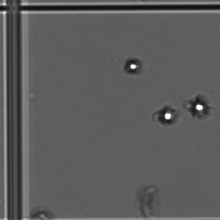Dead Cell: (136, 179, 168, 212)
Living Cell: (189, 91, 214, 125), (153, 99, 178, 128), (123, 54, 144, 77)
